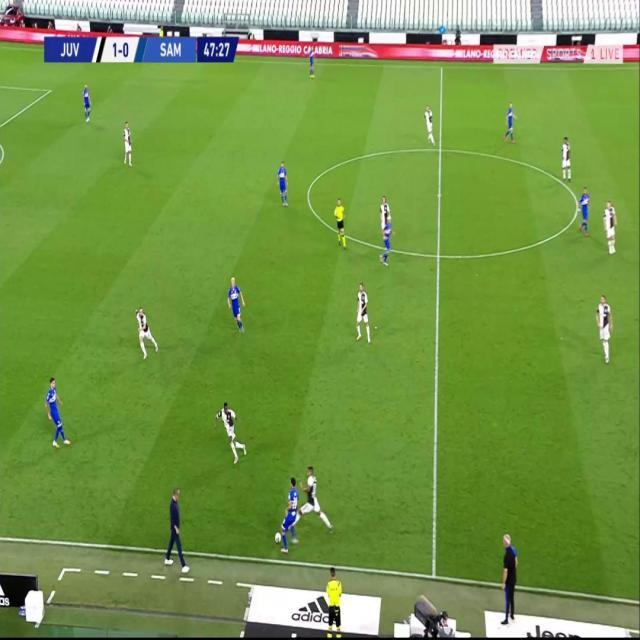ball: (275, 530, 282, 544)
player: (296, 464, 334, 537), (214, 400, 248, 467), (499, 529, 521, 624), (44, 374, 70, 447), (279, 475, 300, 552), (134, 304, 159, 361), (595, 292, 614, 363), (378, 192, 395, 268), (226, 276, 247, 334), (354, 280, 373, 344), (602, 198, 618, 256), (275, 159, 289, 207), (578, 185, 591, 236), (503, 100, 518, 144), (560, 134, 572, 182), (122, 119, 134, 167), (423, 103, 436, 145), (82, 81, 93, 123), (307, 46, 317, 78)
referee: (333, 197, 348, 249)
